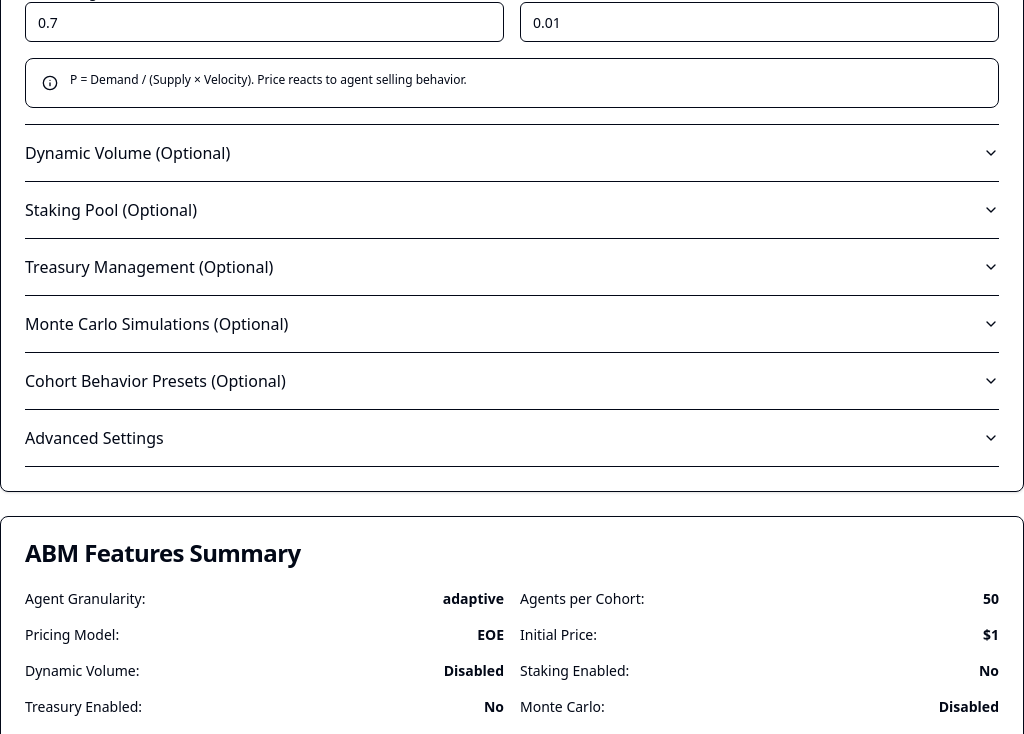
it: ABM Configuration Form - User Interactions › Cohort Behavior Presets › shows warning when no buckets are configured
This screenshot has width=1024, height=734.
(page scrolled)
# Click cohort behavior accordion to expand it
Click the button "Cohort Behavior Presets (Optional)" at coordinates (155, 381), box [25,353,999,409]
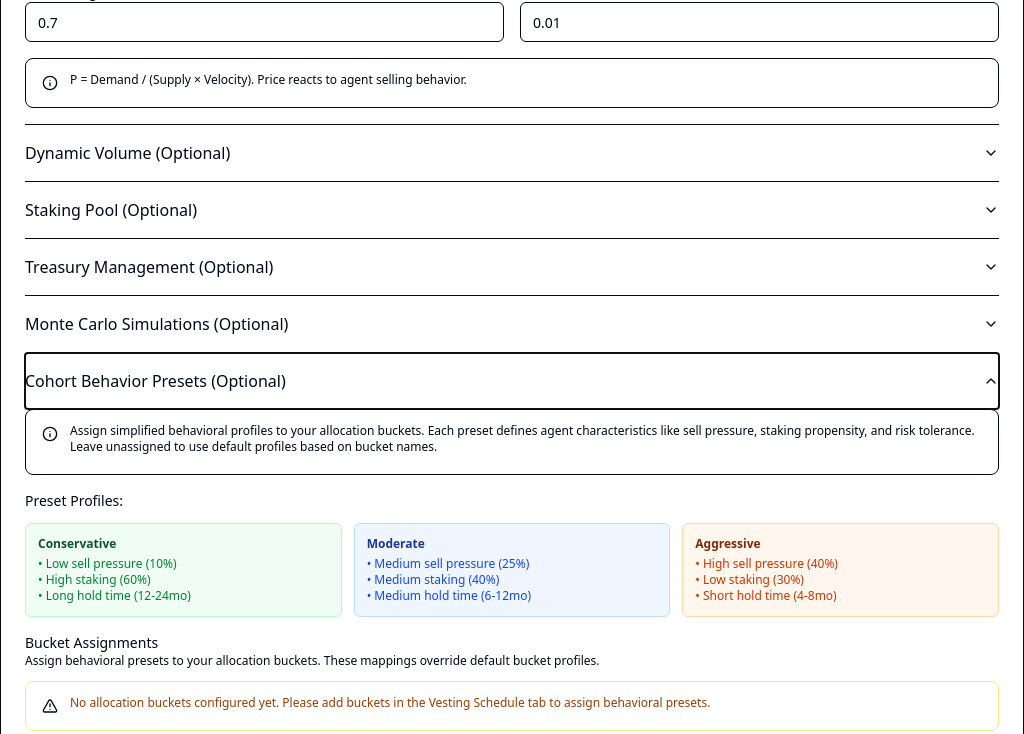
Expected: the text "No allocation buckets configured yet" is shown, [70,694,710,711]
